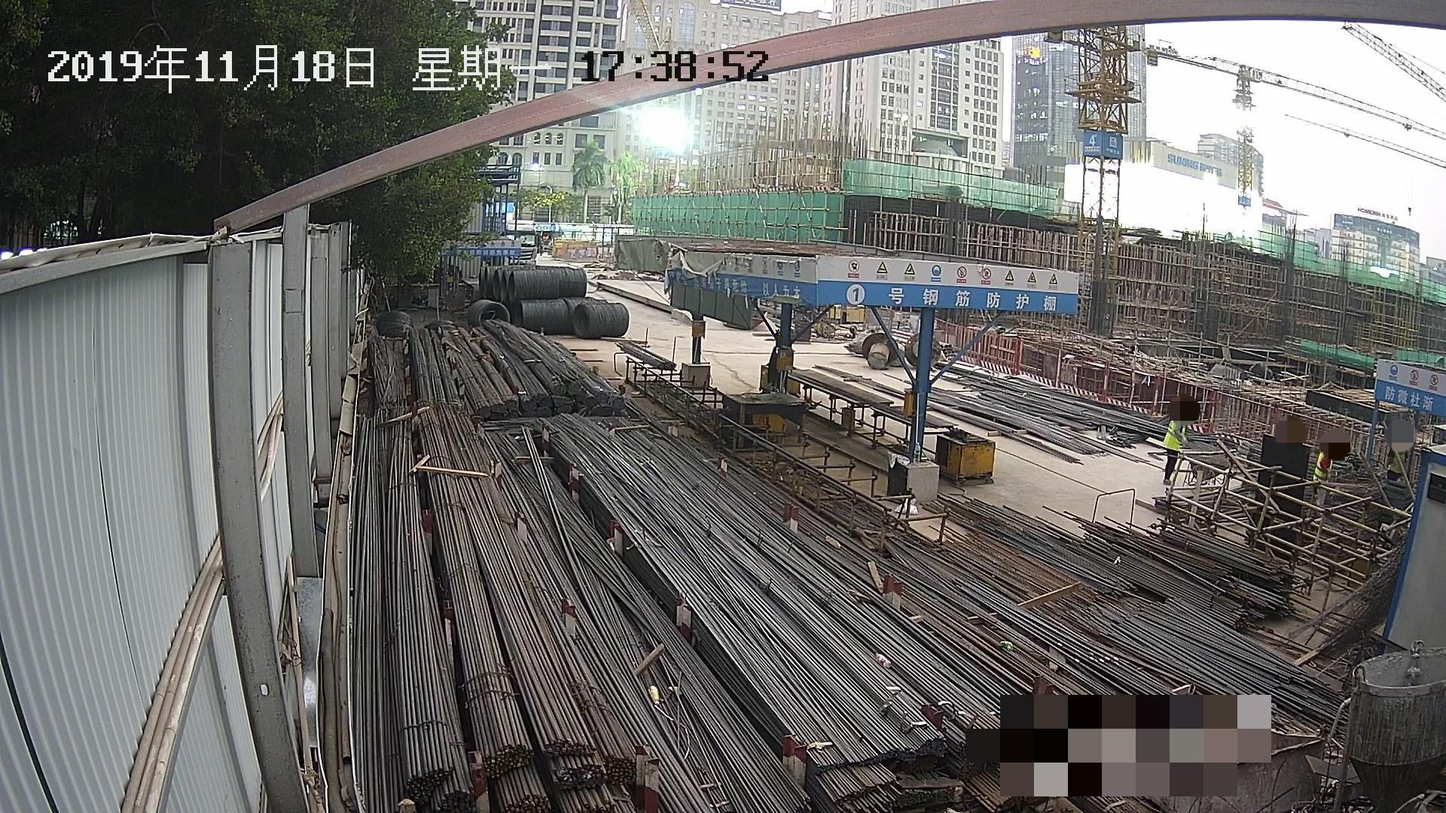hat: (1176, 400, 1192, 418), (1326, 434, 1338, 452)
person: (1161, 398, 1193, 486), (1312, 434, 1341, 509)
